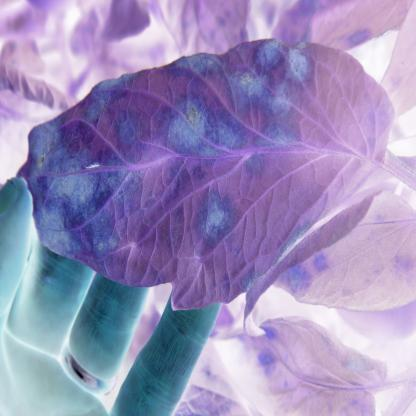Tomato mold leaf: (7, 35, 407, 308)
